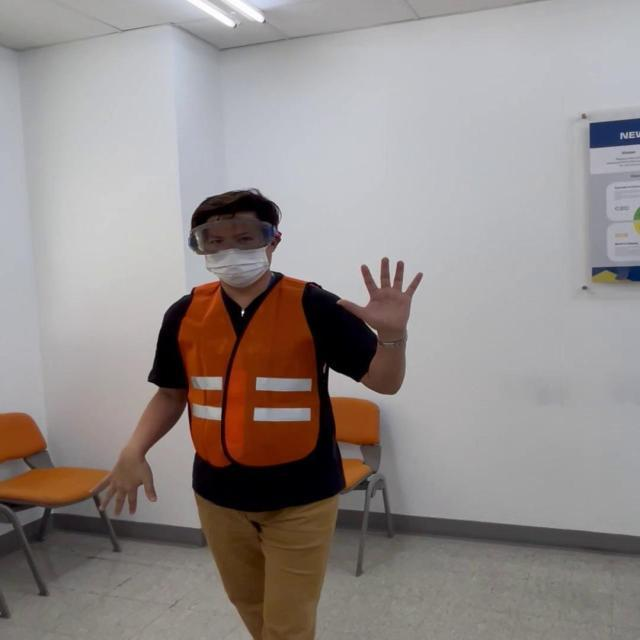bare_hand: (335, 252, 424, 334), (85, 448, 163, 520)
